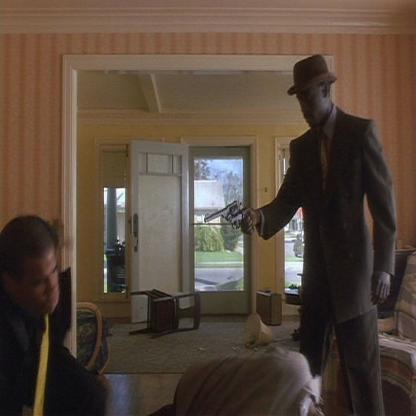gun: (198, 190, 255, 242)
